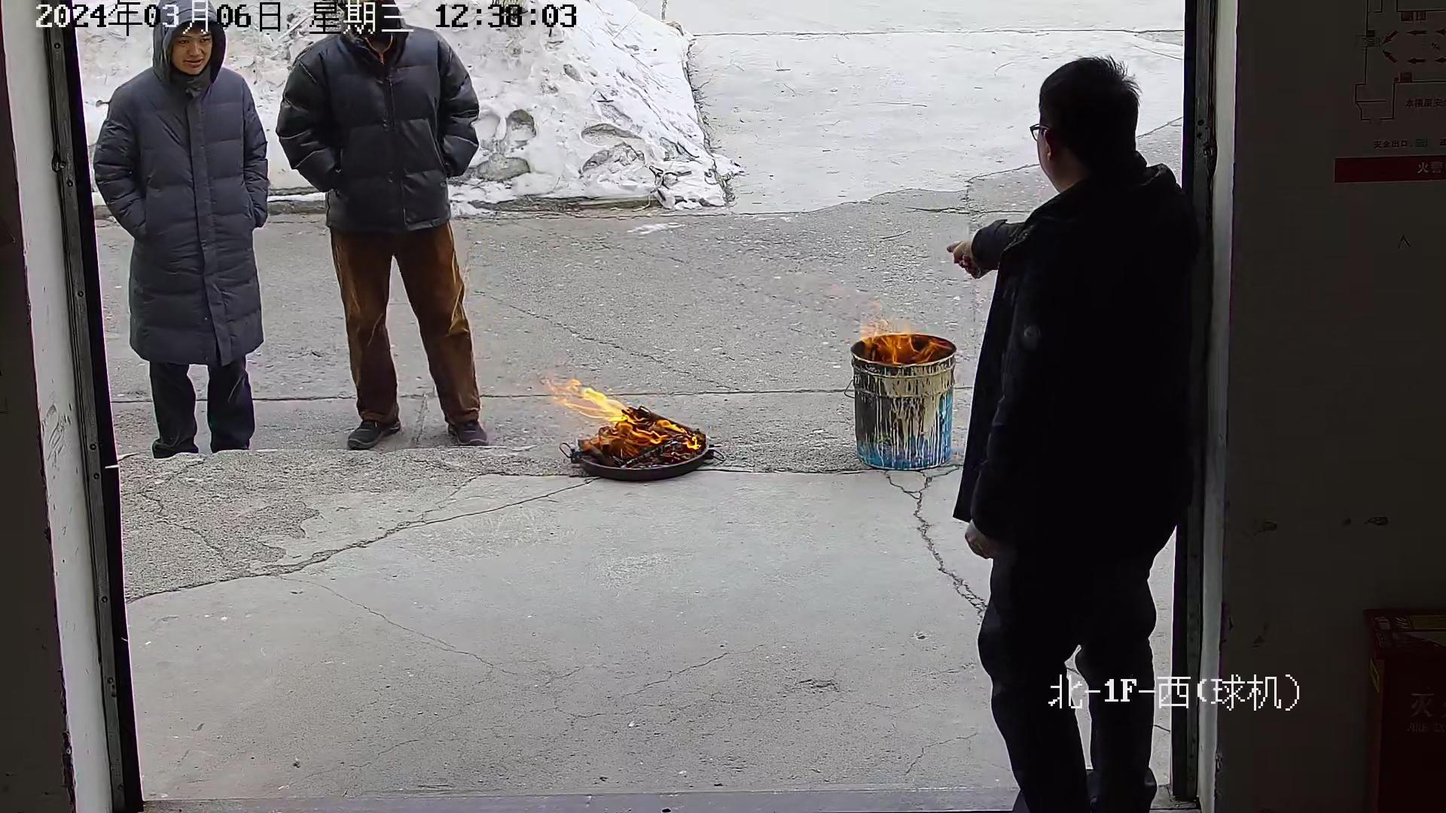fire: (547, 379, 706, 466), (853, 333, 954, 367)
